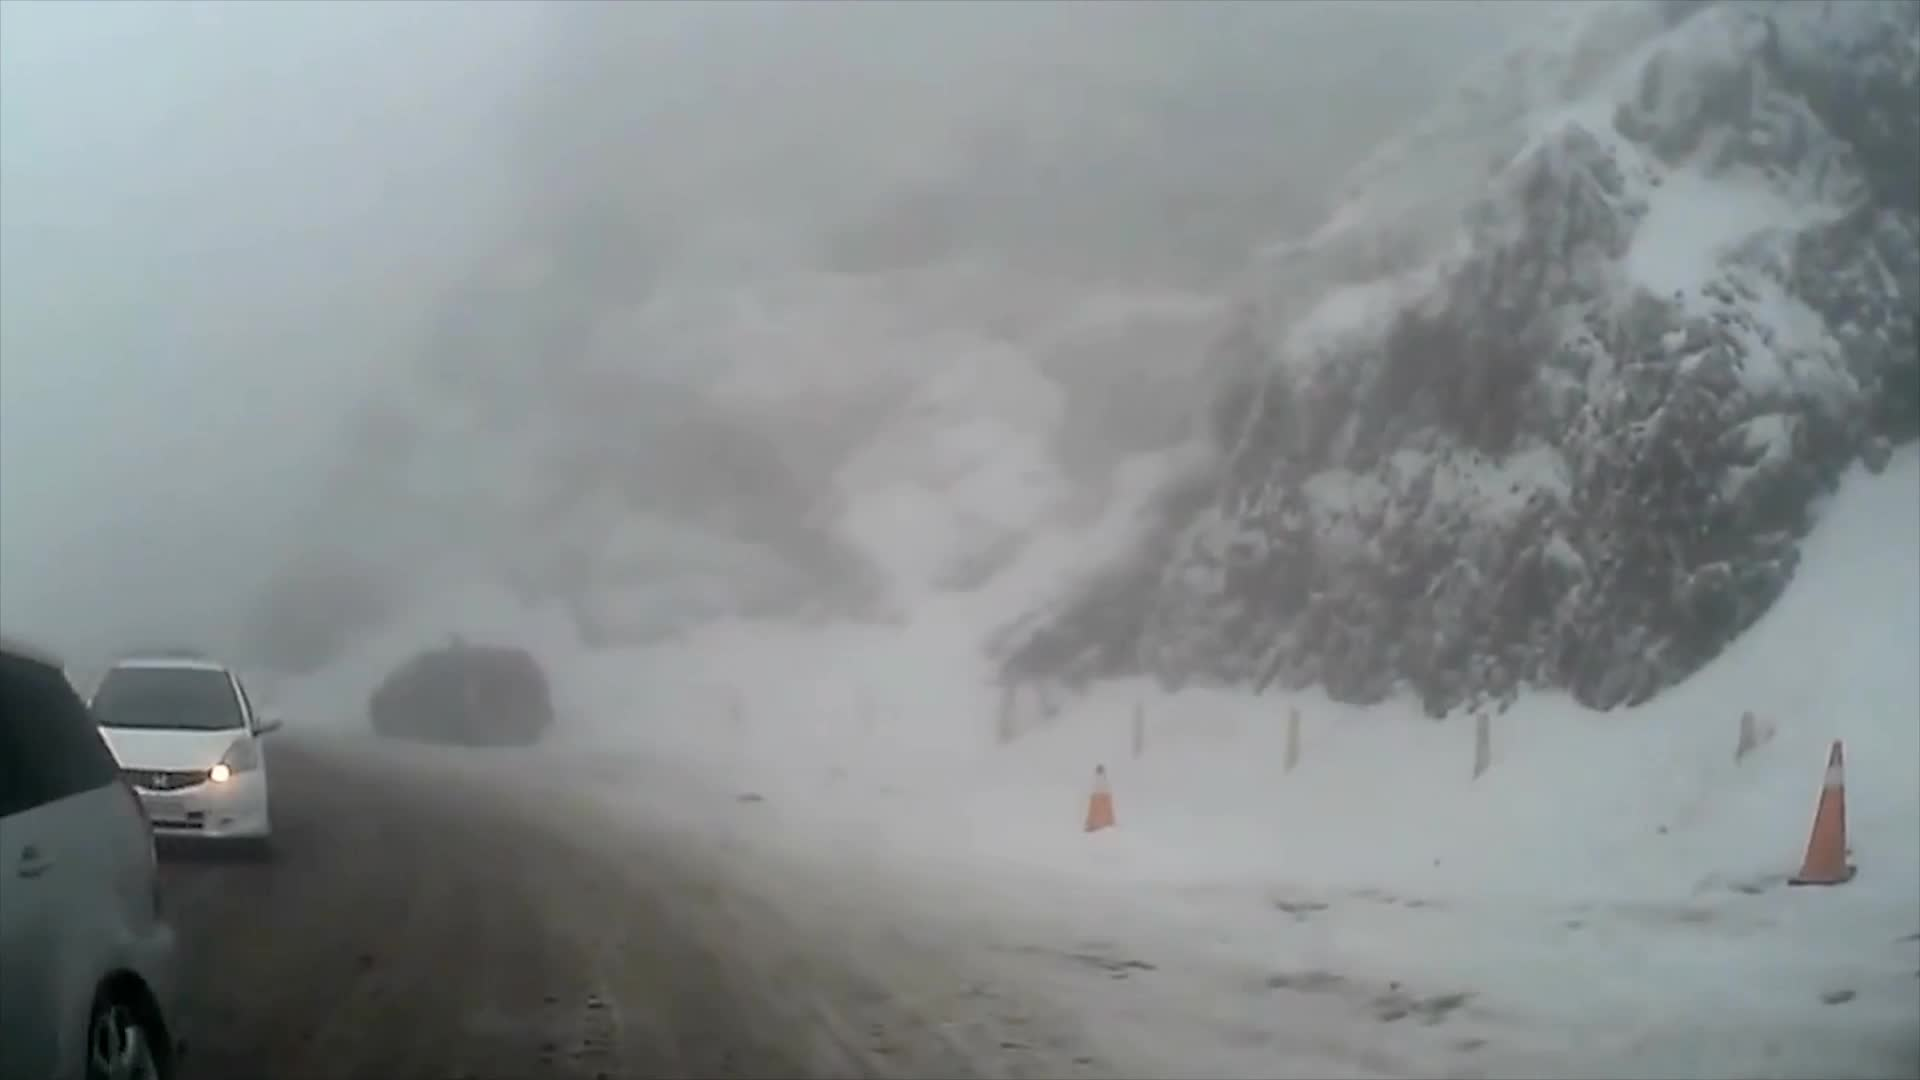vehicle: (0, 632, 189, 1079), (61, 655, 281, 865), (368, 644, 553, 746)
